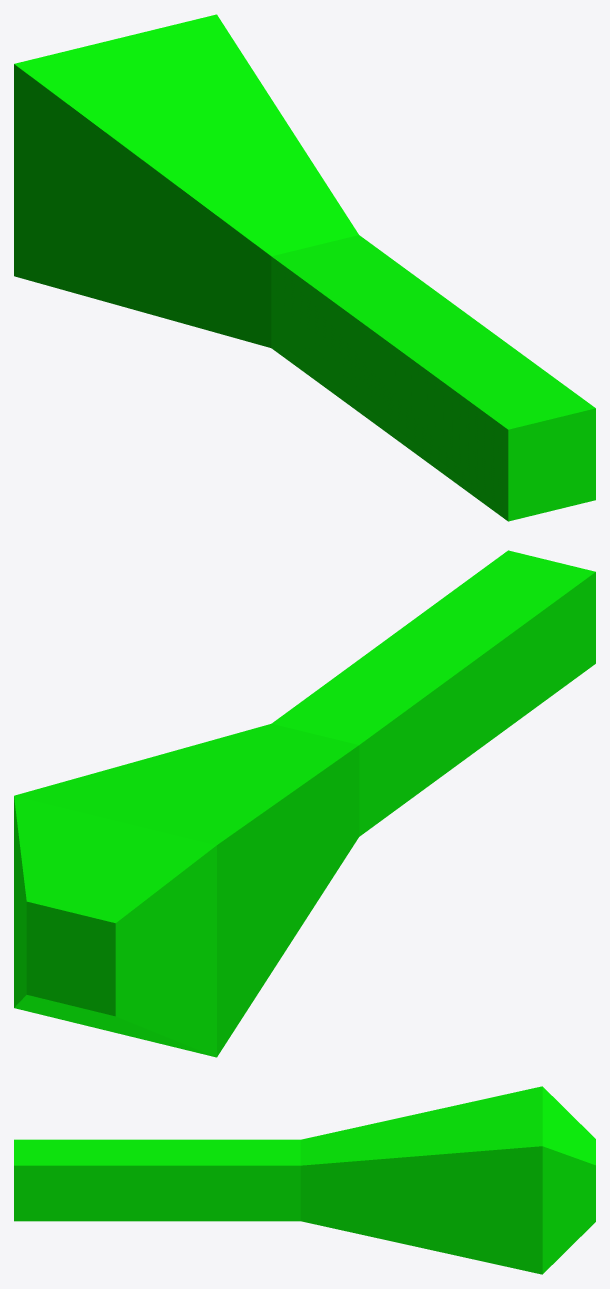
File: SM_KitchenTool_17_Collider.fbx
3 renders of one model, top to bottom at view 1: azimuth 30°, elevation 25°; view 2: azimuth 150°, elevation 25°; view 3: azimuth 270°, elevation 25°, orthographic. The views are drawn at different scales.
Visible parts, largest first — view 1: SM_KitchenTool_17_Collider; view 2: SM_KitchenTool_17_Collider; view 3: SM_KitchenTool_17_Collider.
Boxes of the visible parts, x1,y1,x2,y2 form: SM_KitchenTool_17_Collider: [14, 14, 595, 521]; SM_KitchenTool_17_Collider: [14, 550, 595, 1057]; SM_KitchenTool_17_Collider: [14, 1086, 595, 1274].
Bounding box in the file's own units: 11.08 × 11.08 × 45.49.
